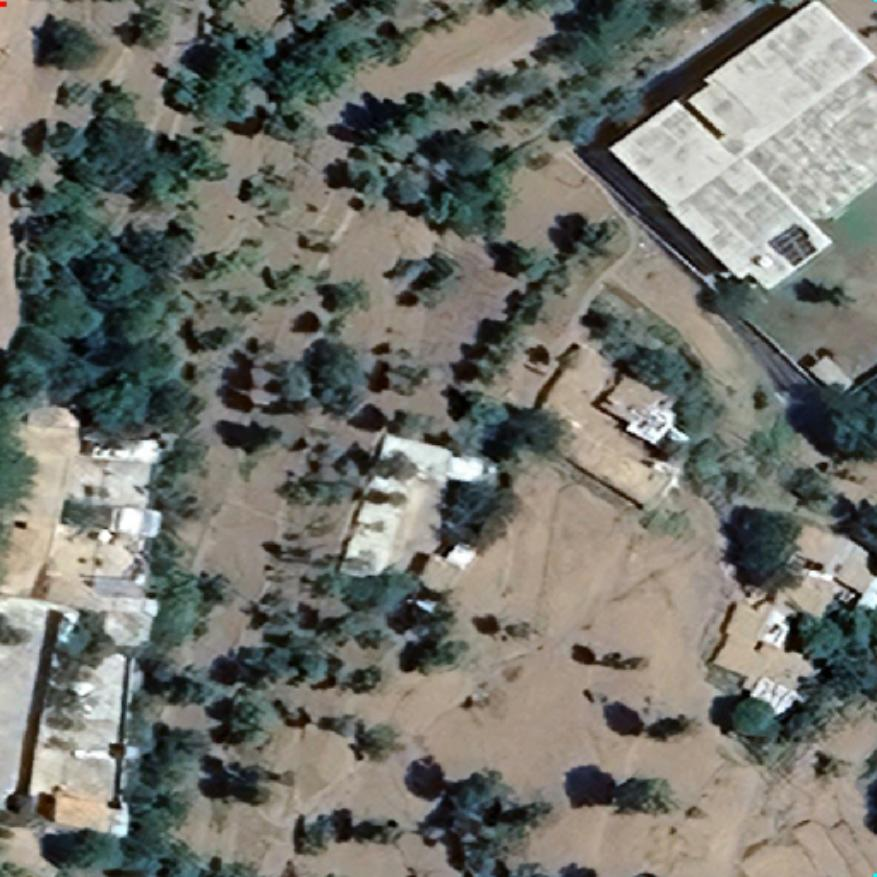Solarpanel: (761, 220, 821, 272)
